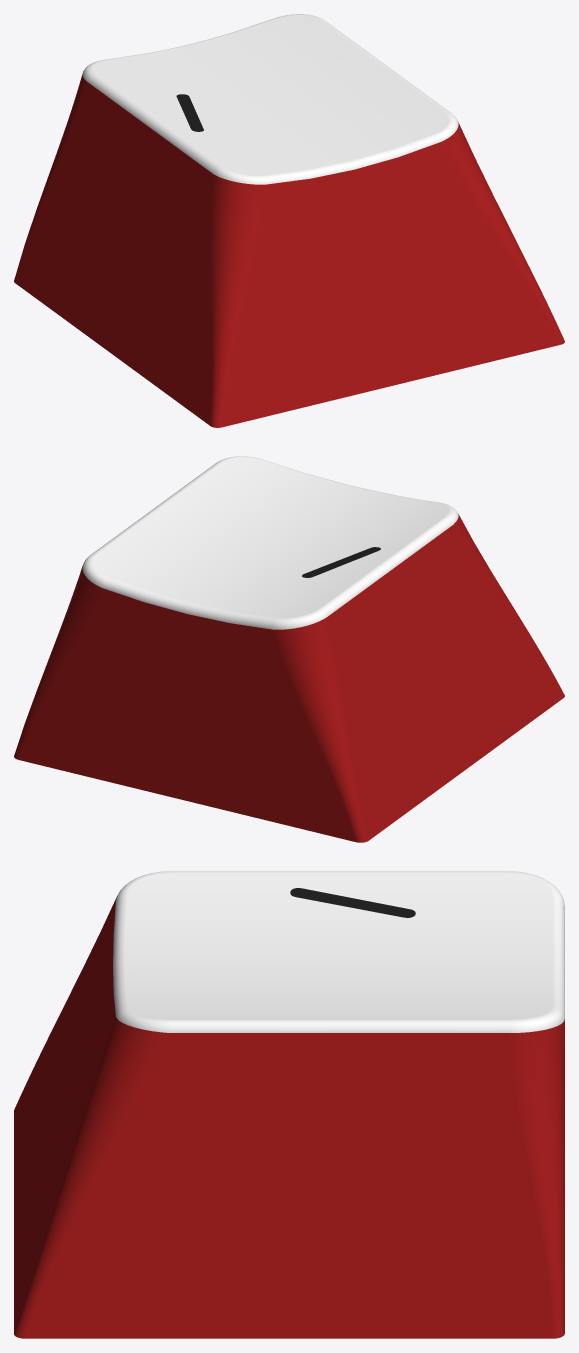
The model's file is NUM Divide.fbx.
3 views of the same model, one above another, from view 1: azimuth 30°, elevation 25°; view 2: azimuth 150°, elevation 25°; view 3: azimuth 270°, elevation 25° (orthographic). The views are drawn at different scales.
Visible parts, largest first — view 1: Body1; view 2: Body1; view 3: Body1.
Part boxes in pixels (<box>): Body1: <box>14,14,564,427</box>; Body1: <box>14,456,564,842</box>; Body1: <box>14,871,564,1338</box>.
Size of the model in its own units: 18 by 9.95 by 18.
